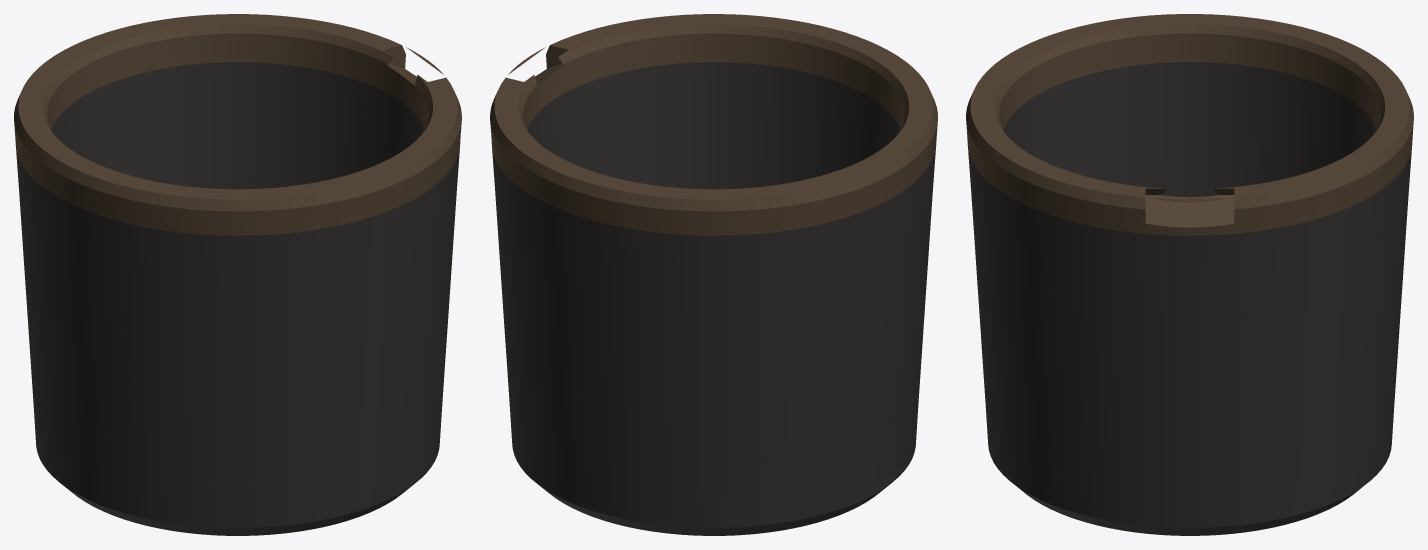
The model's file is crucible.glb.
3 renders of one model, left to right at view 1: azimuth 30°, elevation 25°; view 2: azimuth 150°, elevation 25°; view 3: azimuth 270°, elevation 25°, orthographic.
Visible parts, largest first — view 1: crucible; view 2: crucible; view 3: crucible.
Part boxes in pixels (x1=…): crucible: x1=14, y1=14, x2=461, y2=535; crucible: x1=490, y1=14, x2=937, y2=535; crucible: x1=966, y1=14, x2=1413, y2=535.
Size of the model in its own units: 80.79 by 69.99 by 80.97.
